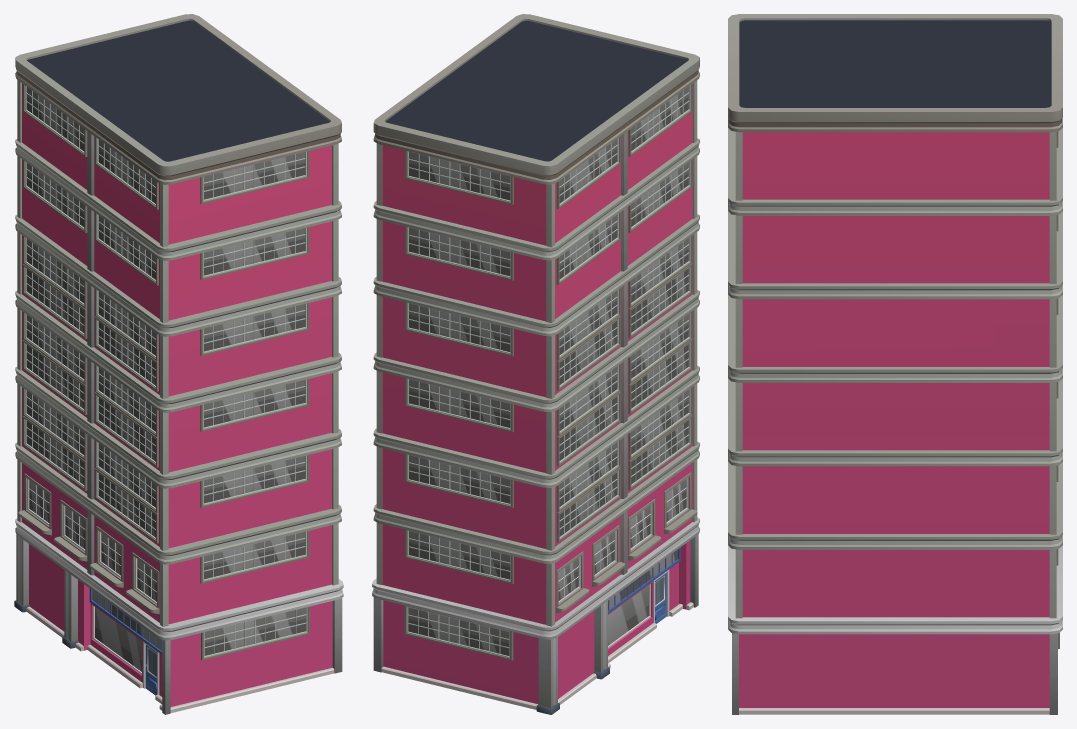
File: Building_11_5_C.fbx
3 views of the same model, side by side, from view 1: azimuth 30°, elevation 25°; view 2: azimuth 150°, elevation 25°; view 3: azimuth 270°, elevation 25° (orthographic). The views are drawn at different scales.
Visible parts, largest first — view 1: Building_11_5_C; view 2: Building_11_5_C; view 3: Building_11_5_C.
Part boxes in pixels (box(x1,y1,x2,y2)): Building_11_5_C: box(14, 14, 343, 714); Building_11_5_C: box(372, 14, 699, 714); Building_11_5_C: box(728, 14, 1062, 714).
Bounding box in the file's own units: 827 × 2314 × 1163.
